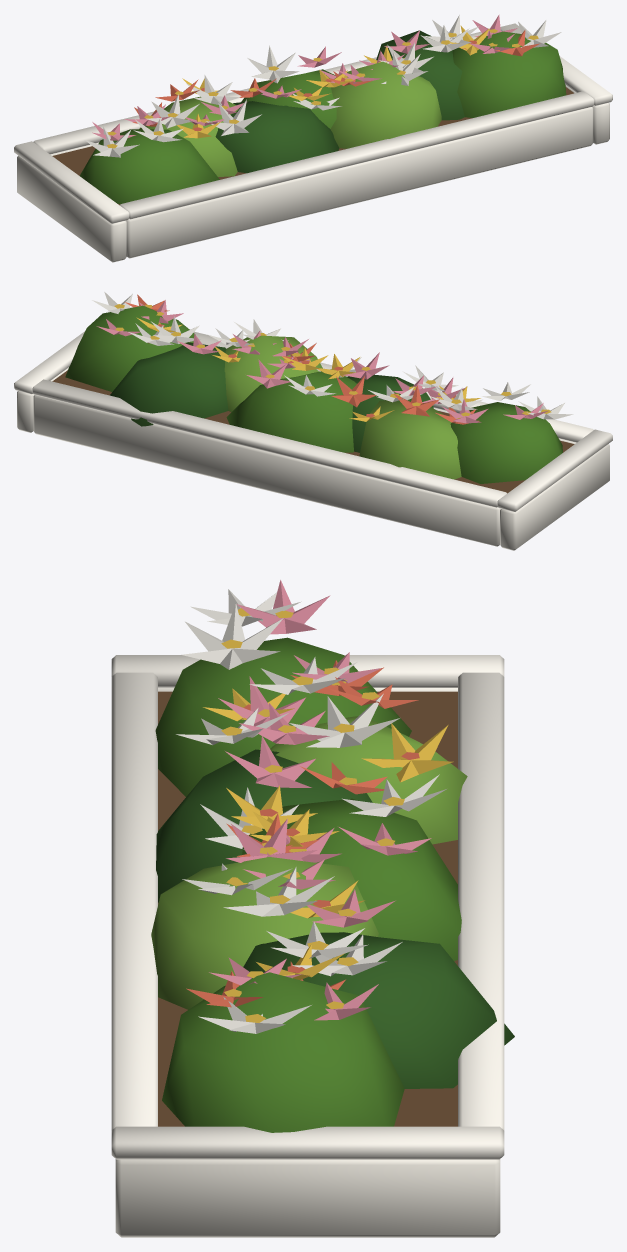
Rendered from flowerbed.glb.
The picture shows the model from 3 angles, top to bottom: view 1: azimuth 30°, elevation 25°; view 2: azimuth 150°, elevation 25°; view 3: azimuth 270°, elevation 25°; orthographic projection. The views are drawn at different scales.
Visible parts, largest first — view 1: body; view 2: body; view 3: body.
Boxes of the visible parts, x1=… form: body: x1=14, y1=14, x2=612, y2=262; body: x1=14, y1=292, x2=612, y2=550; body: x1=111, y1=580, x2=514, y2=1237.
Bounding box in the file's own units: 3.02 × 0.5844 × 1.05.
